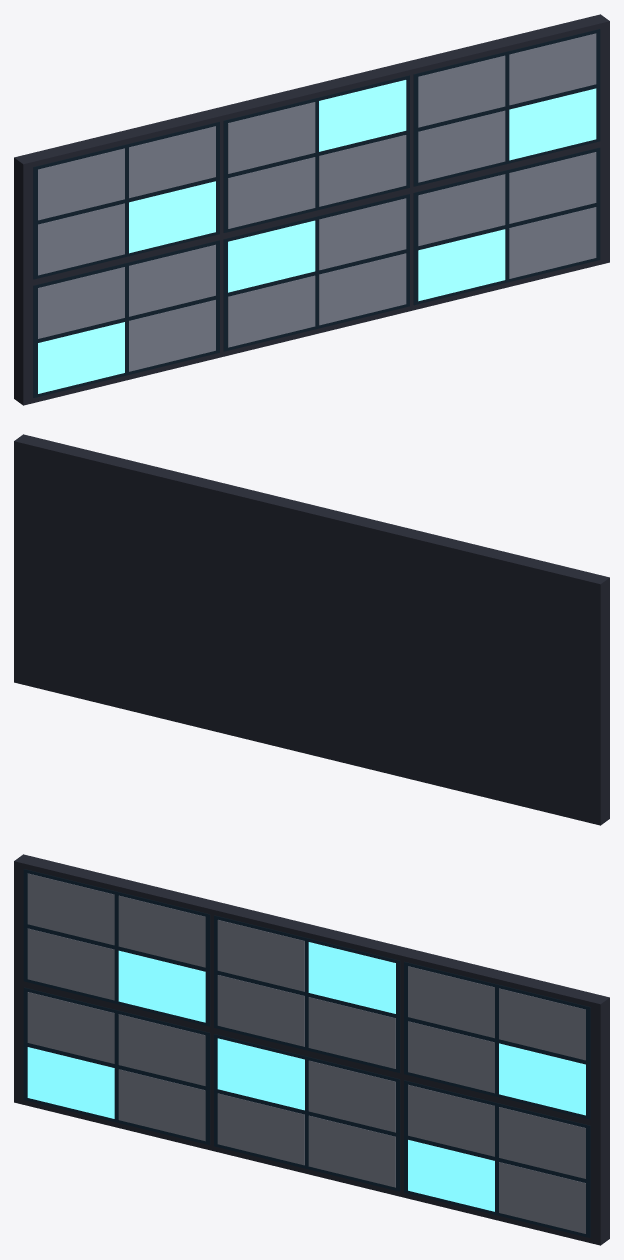
File: mal-026.glb
3 views of the same model, one above another, from view 1: azimuth 30°, elevation 25°; view 2: azimuth 150°, elevation 25°; view 3: azimuth 330°, elevation 25° (orthographic).
Parts seen in each view (by area): view 1: locker_grey, pump_screen, plastic_dark, monitor_screen; view 2: plastic_dark; view 3: locker_grey, pump_screen, plastic_dark, monitor_screen.
Boxes of the visible parts, bbox=[...] form: locker_grey: bbox=[38, 33, 596, 371]; pump_screen: bbox=[38, 80, 596, 393]; plastic_dark: bbox=[14, 14, 609, 405]; monitor_screen: bbox=[33, 29, 600, 397]; plastic_dark: bbox=[14, 434, 609, 825]; locker_grey: bbox=[27, 873, 585, 1233]; pump_screen: bbox=[27, 942, 585, 1211]; plastic_dark: bbox=[14, 854, 609, 1245]; monitor_screen: bbox=[23, 869, 590, 1237].
Bounding box in the file's own units: 2.9 × 1.14 × 0.0845.
